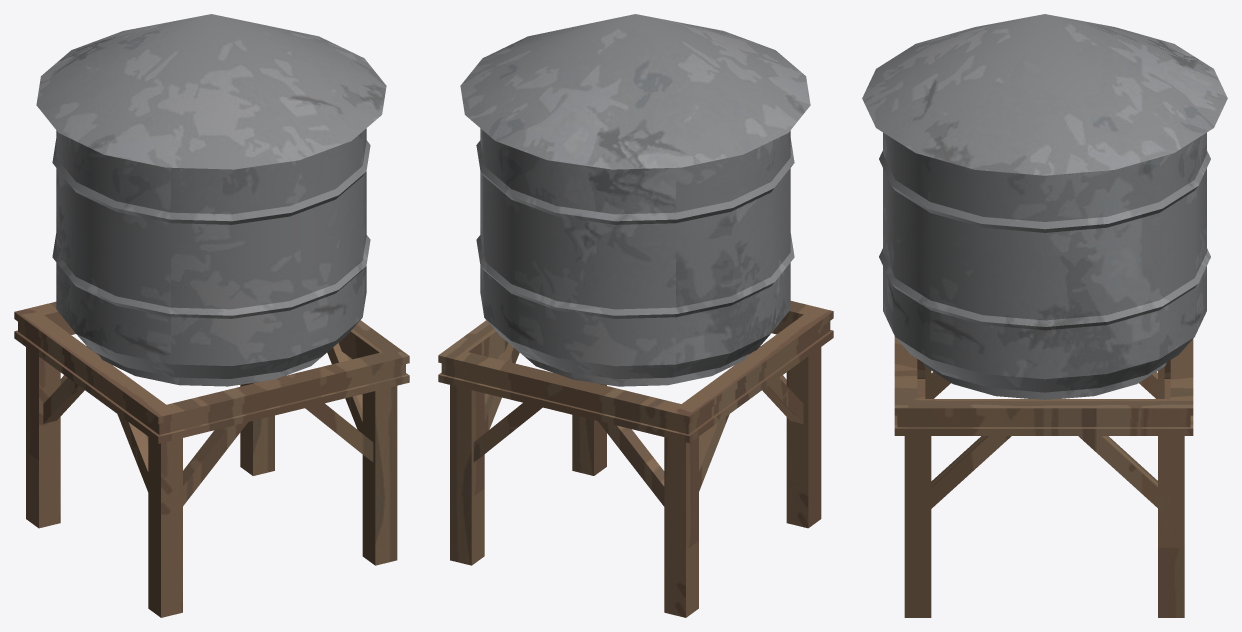
The model's file is prop_reservoir.FBX.
3 views of the same model, side by side, from view 1: azimuth 30°, elevation 25°; view 2: azimuth 150°, elevation 25°; view 3: azimuth 270°, elevation 25° (orthographic). The views are drawn at different scales.
Parts seen in each view (by area): view 1: reservoir; view 2: reservoir; view 3: reservoir.
Part boxes in pixels (box(x1,y1,x2,y2)): reservoir: box(14, 14, 409, 617); reservoir: box(438, 14, 833, 617); reservoir: box(862, 14, 1227, 617).
Size of the model in its own units: 9.03 by 14.82 by 9.03.
2 materials, 2 textured.
